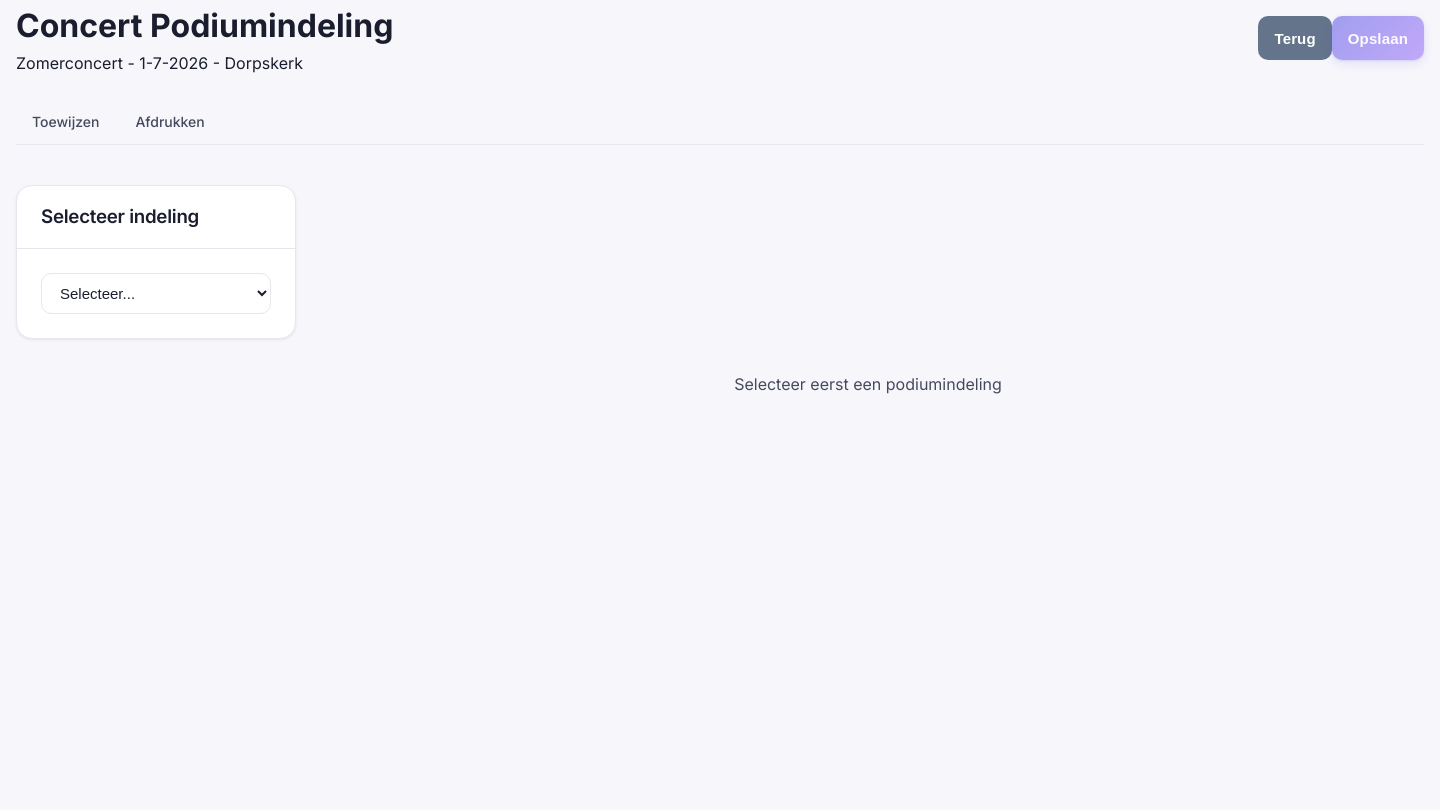
concertpodium - de ledenlijst › filtert ook op instrument, niet alleen op naam
expect the button "Toewijzen" is shown: met, box [16,101,115,144]
Select "Grote zaal" in the dropdown: (156,293) [41,273,271,314]
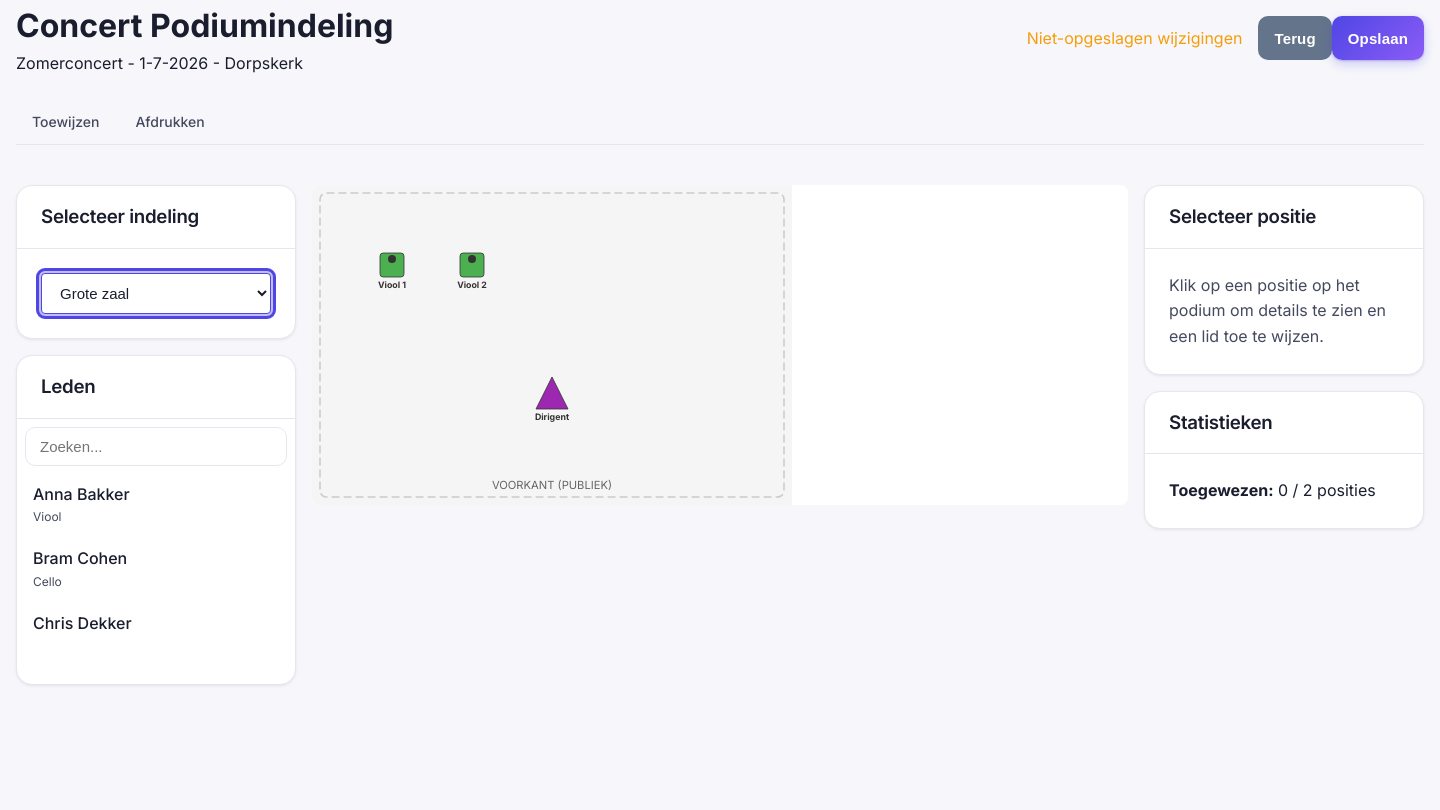
expect the heading "Leden" is shown: met, box [41,372,96,402]
In the field with placeholder "Zoeken...": (156,446) [25,427,287,466], type "cello"
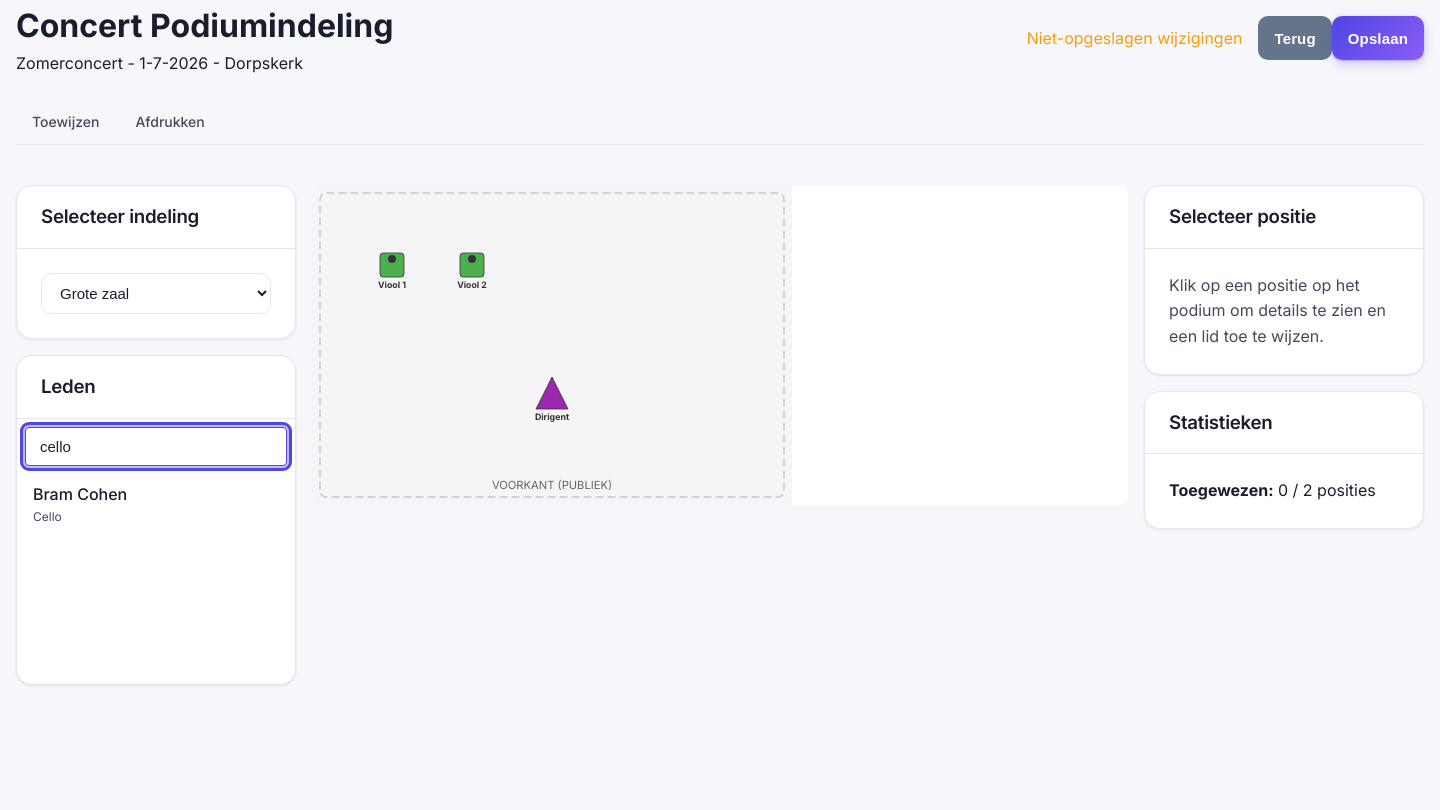
expect the text "Bram Cohen" is shown: met, box [33,484,127,504]
expect the text "Anna Bakker" is gone: met
